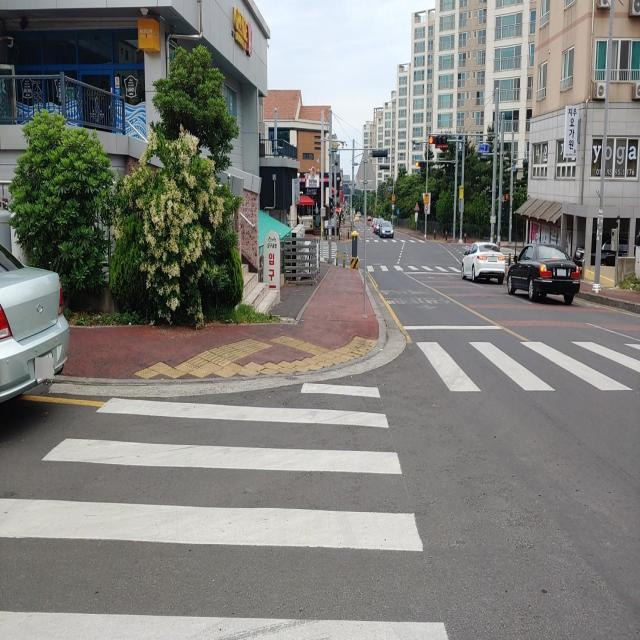횡단보도: (0, 381, 451, 639), (420, 336, 640, 412), (366, 259, 432, 279)
